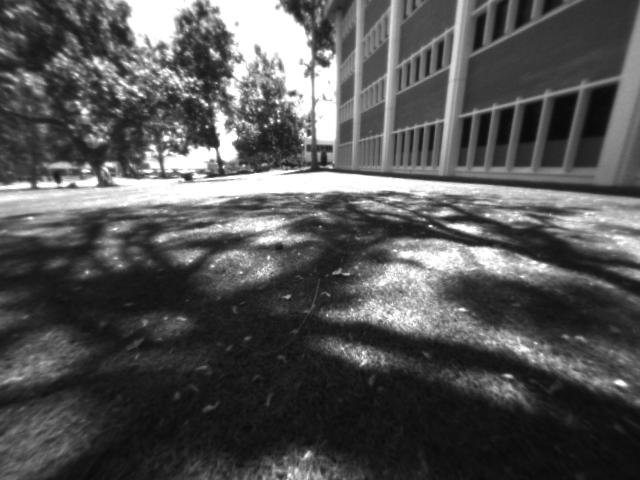dogtoy: (267, 233, 293, 258)
